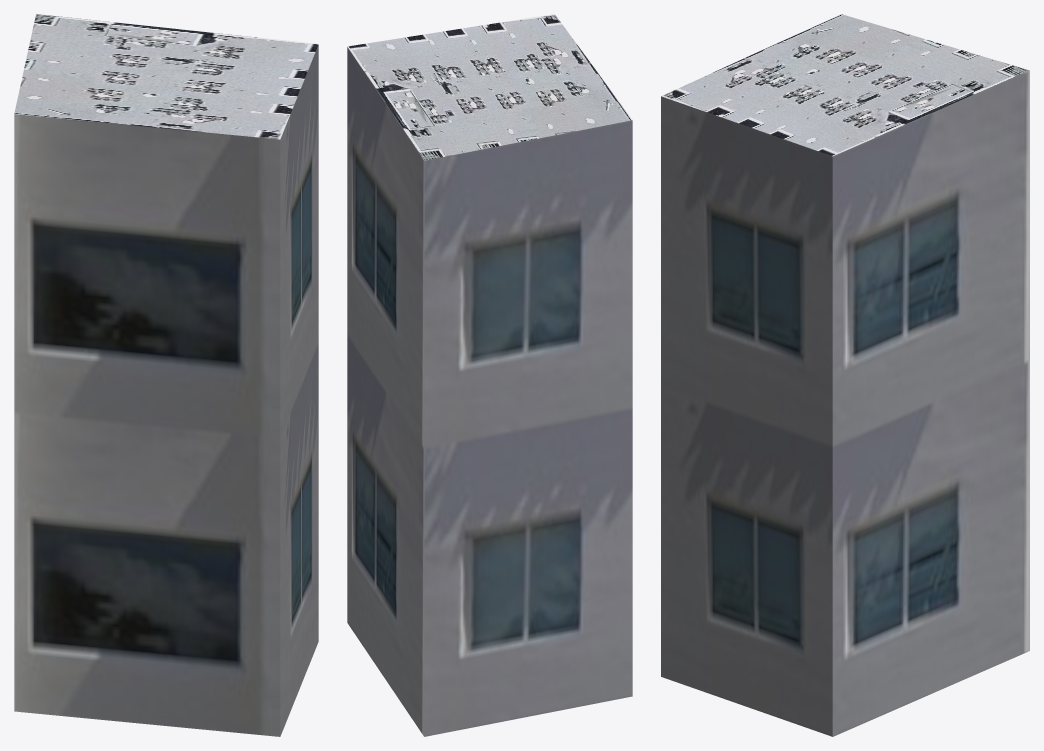
The model's file is ResTex__862.fbx.
The picture shows the model from 3 angles, left to right: view 1: azimuth 30°, elevation 25°; view 2: azimuth 150°, elevation 25°; view 3: azimuth 270°, elevation 25°; orthographic projection. The views are drawn at different scales.
Parts seen in each view (by area): view 1: CityEngineMaterial_10_m, CityEngineMaterial_m; view 2: CityEngineMaterial_10_m, CityEngineMaterial_m; view 3: CityEngineMaterial_10_m, CityEngineMaterial_m.
Boxes of the visible parts, bbox=[...] form: CityEngineMaterial_10_m: bbox=[14, 45, 318, 736]; CityEngineMaterial_m: bbox=[14, 14, 318, 139]; CityEngineMaterial_10_m: bbox=[347, 47, 632, 736]; CityEngineMaterial_m: bbox=[347, 14, 632, 160]; CityEngineMaterial_10_m: bbox=[661, 70, 1029, 736]; CityEngineMaterial_m: bbox=[661, 14, 1029, 156].
Size of the model in its own units: 3.16 by 6 by 3.45.
Materials: 2 (2 with a texture image).
